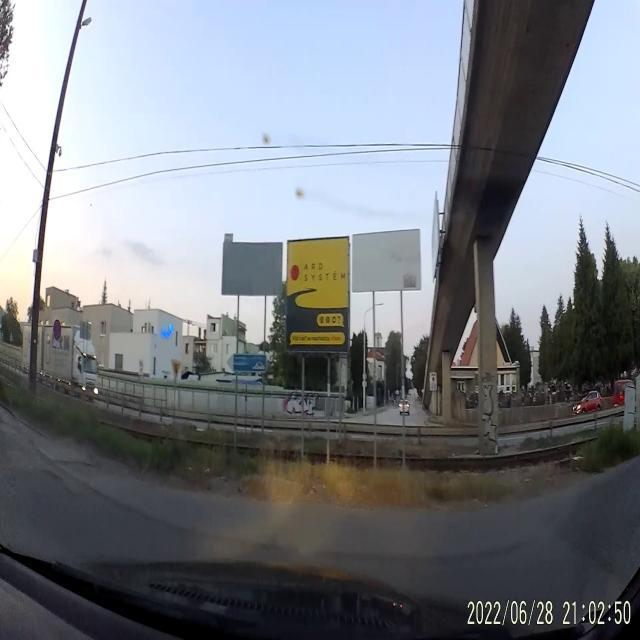Pothole: (42, 467, 64, 483)
